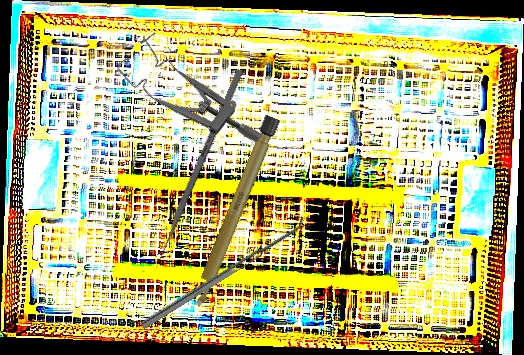Pusher: (150, 68, 244, 274)
Scalpel Handle: (188, 114, 281, 309)
Spatula Surgical: (136, 214, 309, 329)
Speculum: (113, 21, 265, 180)
